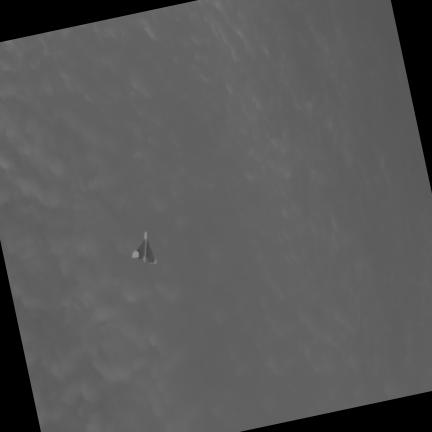Shahed: (132, 231, 156, 263)
